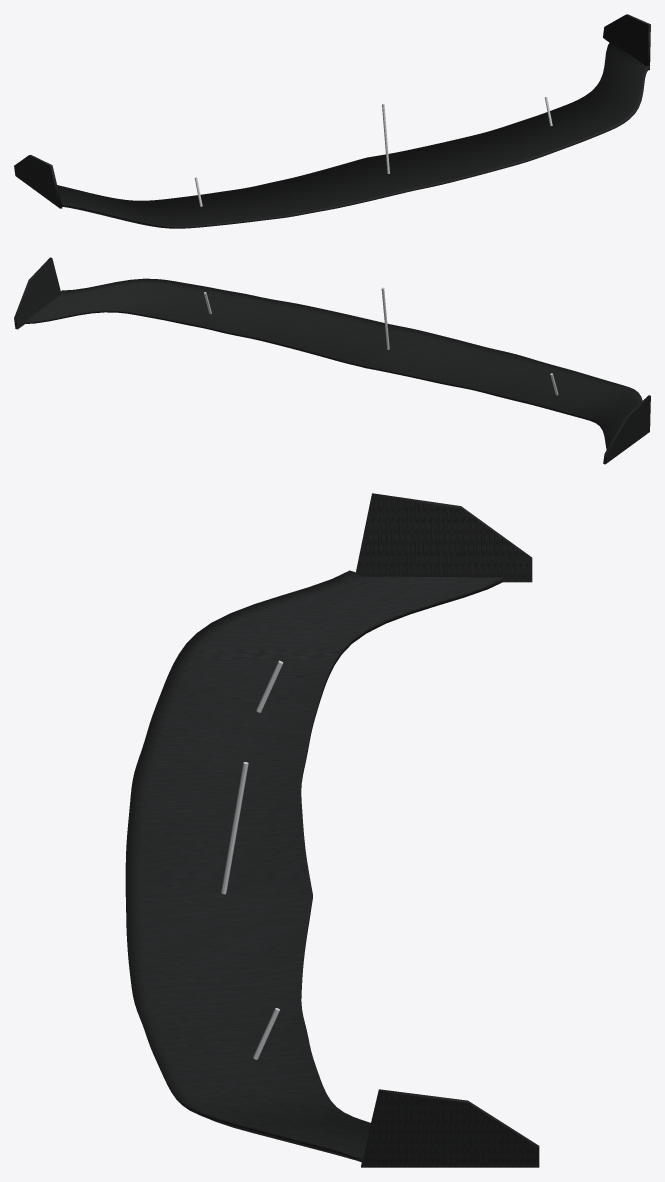
The model's file is WB10_widebody_lip.glb.
3 renders of one model, top to bottom at view 1: azimuth 30°, elevation 25°; view 2: azimuth 150°, elevation 25°; view 3: azimuth 270°, elevation 25°, orthographic. The views are drawn at different scales.
Visible parts, largest first — view 1: MOD_NA_WB10_blade, MOD_NA_WB10_fence_L, MOD_NA_WB10_fence_R; view 2: MOD_NA_WB10_blade, MOD_NA_WB10_fence_L, MOD_NA_WB10_fence_R; view 3: MOD_NA_WB10_blade, MOD_NA_WB10_fence_R, MOD_NA_WB10_fence_L.
Part boxes in pixels (x1,y1,x2,y2): MOD_NA_WB10_blade: [57, 41, 649, 228]; MOD_NA_WB10_fence_L: [603, 14, 650, 70]; MOD_NA_WB10_fence_R: [14, 155, 62, 208]; MOD_NA_WB10_blade: [25, 278, 642, 449]; MOD_NA_WB10_fence_L: [14, 257, 60, 329]; MOD_NA_WB10_fence_R: [603, 395, 650, 464]; MOD_NA_WB10_blade: [125, 570, 502, 1162]; MOD_NA_WB10_fence_R: [356, 493, 532, 582]; MOD_NA_WB10_fence_L: [361, 1089, 539, 1167].
Bounding box in the file's own units: 1.55 × 0.171 × 0.4641.
2 materials, 1 textured.
